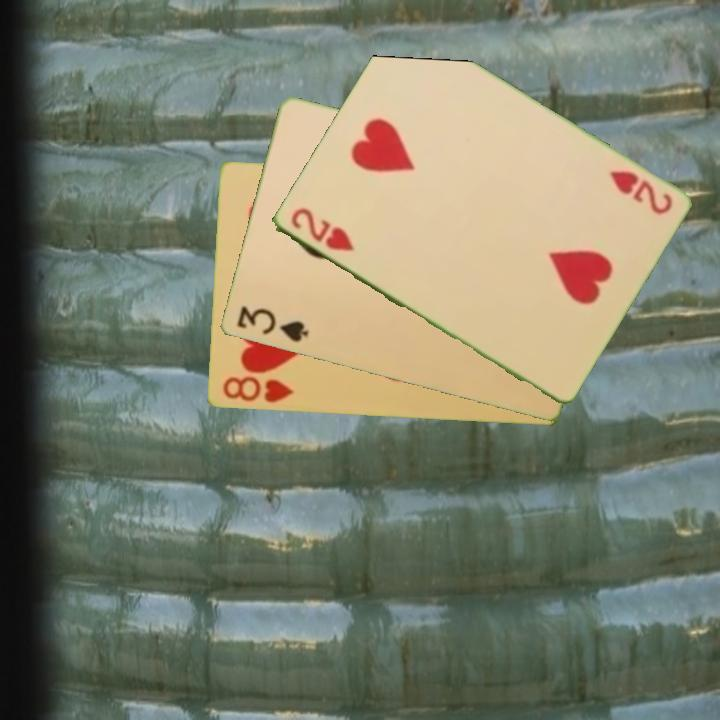2h: (286, 204, 357, 255), (605, 167, 675, 218)
3s: (232, 303, 311, 346)
8h: (219, 373, 297, 406)
